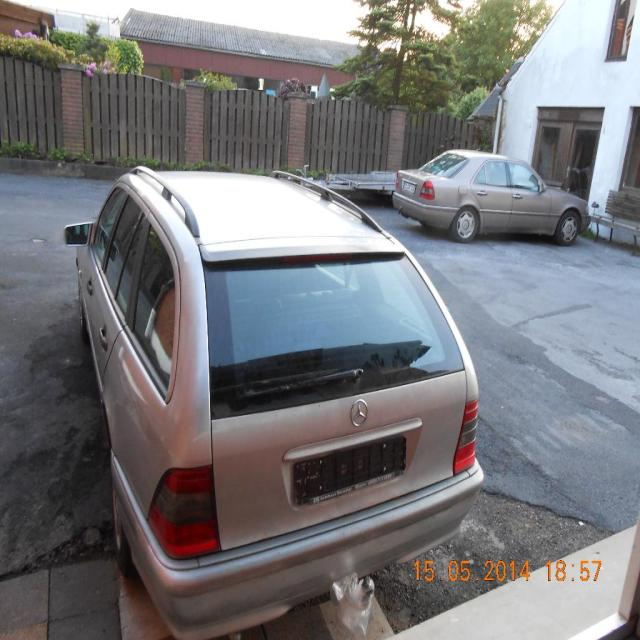car: (388, 145, 584, 244)
